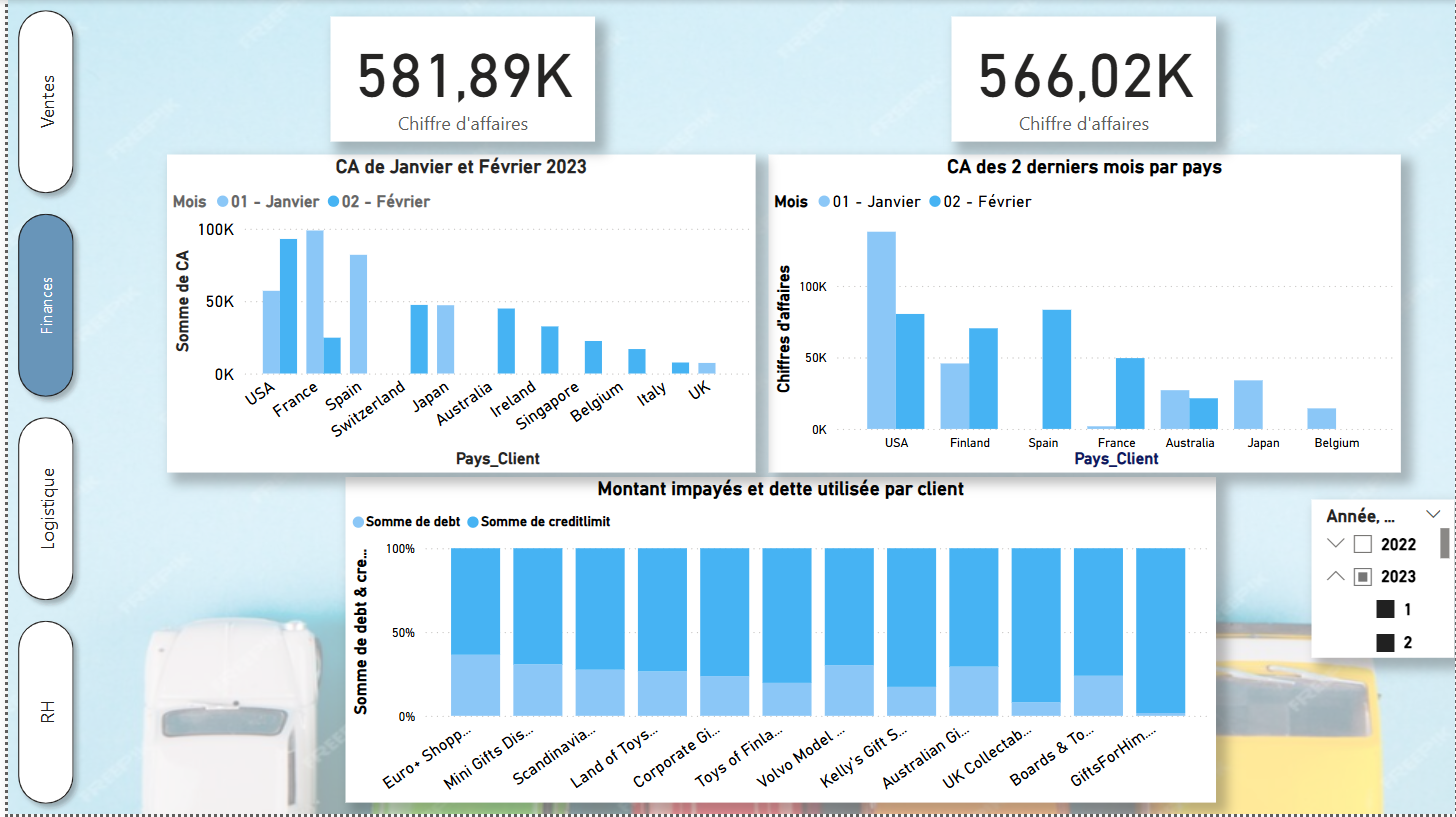

The page's visual inventory and layout, read from the dashboard file:
{"tool":"powerbi","page":{"name":"Finances","canvas":[1280,720],"ordinal":1},"visuals":[{"type":"hundredPercentStackedColumnChart","title":"Montant impayés et dette utilisée par client ","fields":{"Category":["Finances2.customername"],"Y":["Sum(Finances2.debt)","Sum(Finances2.creditlimit)"]},"box":[298.1,422.4,770.2,287.9],"z":0},{"type":"clusteredColumnChart","title":"CA des 2 derniers mois par pays ","fields":{"Category":["Finances1.Pays_Client"],"Y":["Sum(Finances1.CA)"],"Series":["Finances1.Nom_Mois"]},"box":[672.1,136,559.3,281.4],"z":1000},{"type":"clusteredColumnChart","title":"CA de Janvier et Février 2023","fields":{"Category":["Finance 4.Pays_Client"],"Y":["Sum(Finance 4.CA)"],"Series":["Finance 4.Nom_Mois"]},"box":[140.7,136,520.9,281.4],"z":2000},{"type":"slicer","fields":{"Values":["Finance 4.Année","Finance 4.Mois"]},"box":[1153.1,441.4,127.1,140.3],"z":3000},{"type":"card","fields":{"Values":["Sum(Finance 4.CA)"]},"box":[284.9,14,233.7,110.5],"z":4000},{"type":"card","fields":{"Values":["Sum(Finances1.CA)"]},"box":[834.9,14,233.7,110.5],"z":5000},{"type":"pageNavigator","box":[0,0,67.2,720],"z":6000}]}

Visuals, with their boxes on the page's 1280x720 design canvas (x1, y1, x2, y2). These are canvas units, not pixel positions in the 1456x817 screenshot, which may show the page scaled, cropped or inside an application window:
"Montant impayés et dette utilisée par client " hundredPercentStackedColumnChart: [left=298, top=422, right=1068, bottom=710]
"CA des 2 derniers mois par pays " clusteredColumnChart: [left=672, top=136, right=1231, bottom=417]
"CA de Janvier et Février 2023" clusteredColumnChart: [left=141, top=136, right=662, bottom=417]
slicer - Finance 4.Année x Finance 4.Mois: [left=1153, top=441, right=1280, bottom=582]
card - Sum(Finance 4.CA): [left=285, top=14, right=519, bottom=124]
card - Sum(Finances1.CA): [left=835, top=14, right=1069, bottom=124]
pageNavigator: [left=0, top=0, right=67, bottom=720]
